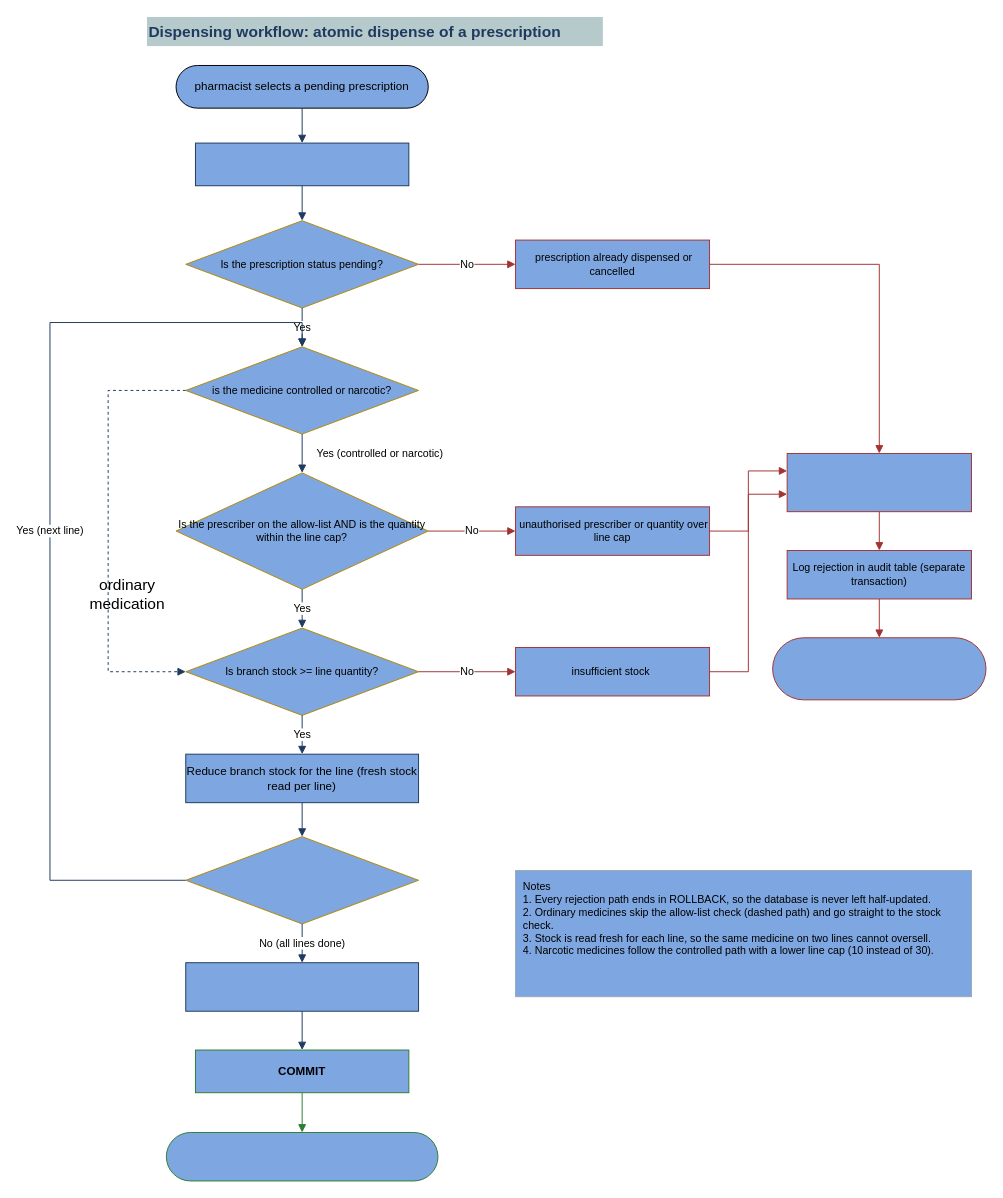
Some shapes in this 1003 by 1198 pixel diagram are drawn without their labels. The shapes that lost their labels are listed below. From the top down, each one's centre as x and y in pixels, then its label:
At [301,164]: "Open database transaction".
At [878,482]: "ROLLBACK (whole transaction undone)".
At [879,668]: "error message shown, stock unchanged, prescription stays pending".
At [302,880]: "Are there more lines?".
At [302,986]: "Set prescription status to dispensed and write audit entry".
At [301,1156]: "success message shown, stock reduced, status dispensed".
